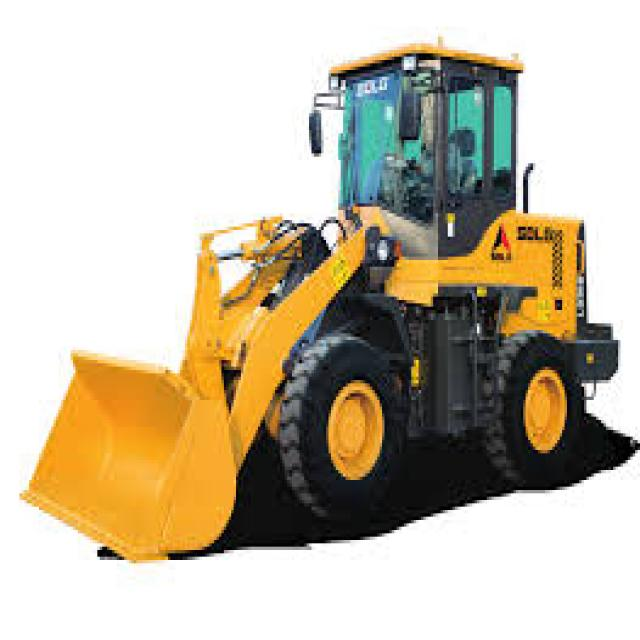buldozerpayloadergrader: (14, 32, 626, 566)
